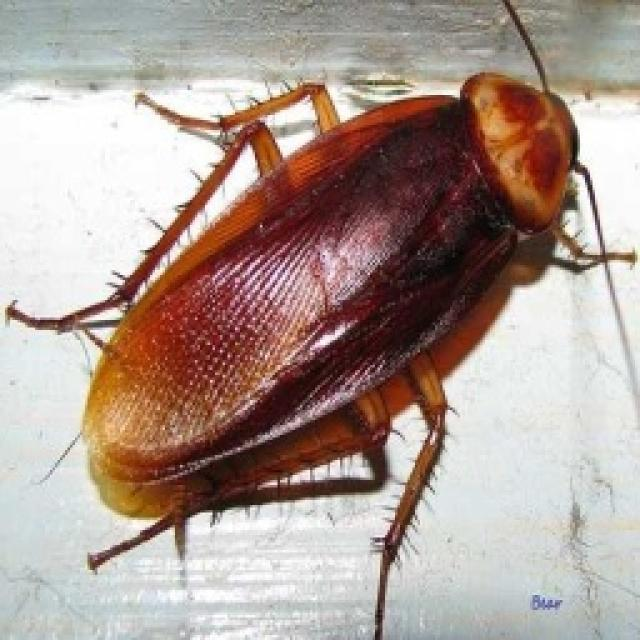cockroach: (78, 34, 618, 514)
